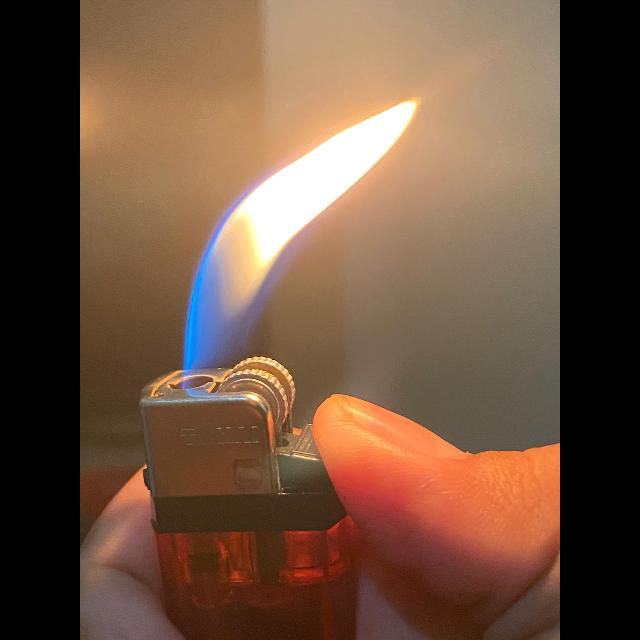fire: (185, 100, 418, 370)
